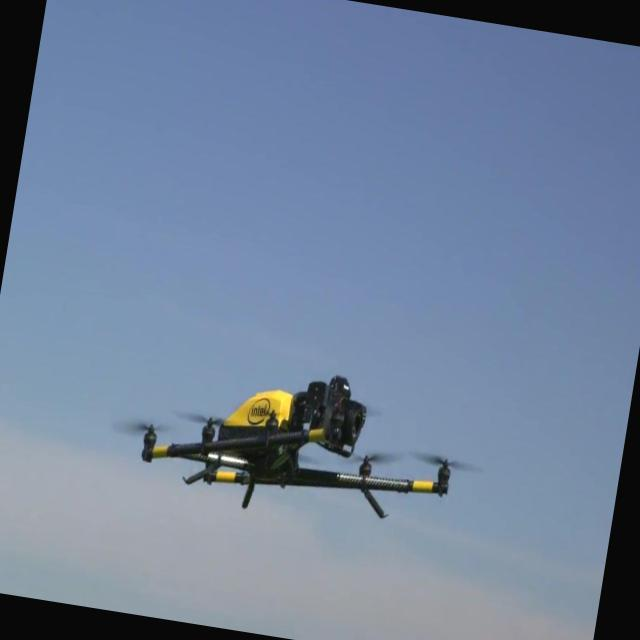drone: (112, 339, 466, 542)
